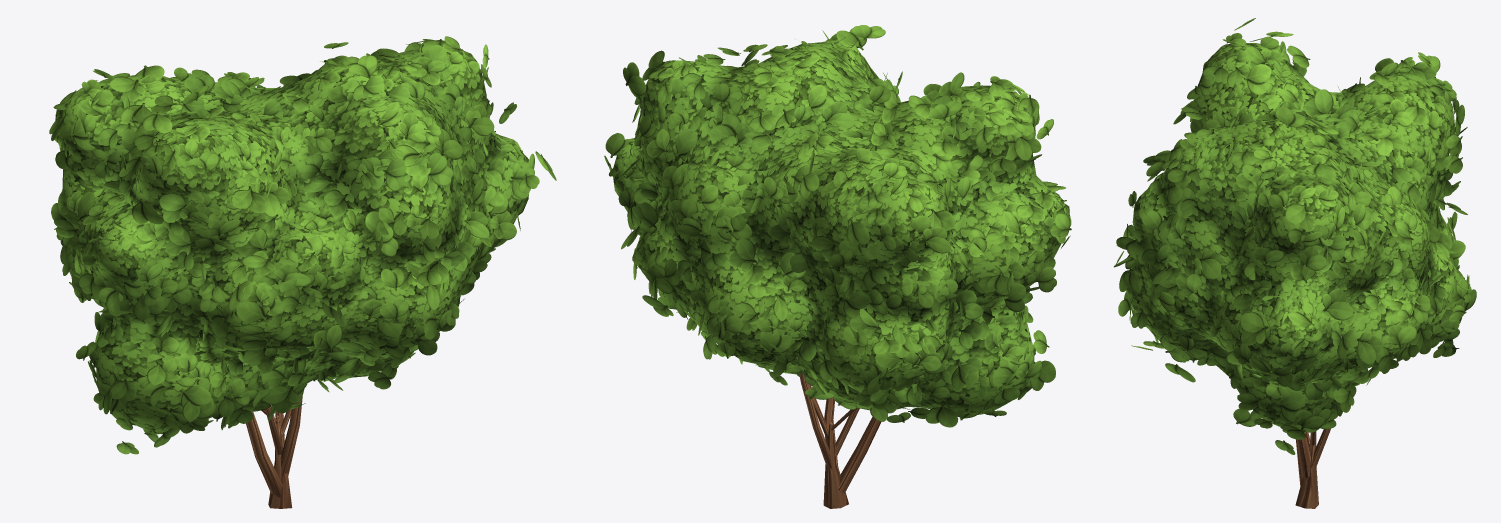
The model's file is shrub_v2.glb.
3 views of the same model, side by side, from view 1: azimuth 30°, elevation 25°; view 2: azimuth 150°, elevation 25°; view 3: azimuth 270°, elevation 25° (orthographic). The views are drawn at different scales.
Visible parts, largest first — view 1: shrub_v2_leaves_LOD0, shrub_v2_volume_LOD0, shrub_v2_trunk_LOD0; view 2: shrub_v2_leaves_LOD0, shrub_v2_volume_LOD0, shrub_v2_trunk_LOD0; view 3: shrub_v2_leaves_LOD0, shrub_v2_volume_LOD0, shrub_v2_trunk_LOD0.
Part boxes in pixels (box(x1,y1,x2,y2)): shrub_v2_leaves_LOD0: box(49, 36, 556, 454); shrub_v2_volume_LOD0: box(55, 50, 528, 433); shrub_v2_trunk_LOD0: box(246, 394, 302, 508); shrub_v2_leaves_LOD0: box(604, 25, 1071, 427); shrub_v2_volume_LOD0: box(613, 40, 1071, 414); shrub_v2_trunk_LOD0: box(799, 373, 881, 508); shrub_v2_leaves_LOD0: box(1114, 18, 1476, 454); shrub_v2_volume_LOD0: box(1128, 43, 1464, 426); shrub_v2_trunk_LOD0: box(1295, 404, 1337, 508).
Size of what is drawn, in the model's own units: 2.77 by 2.52 by 2.04.
3 materials, 3 textured.
